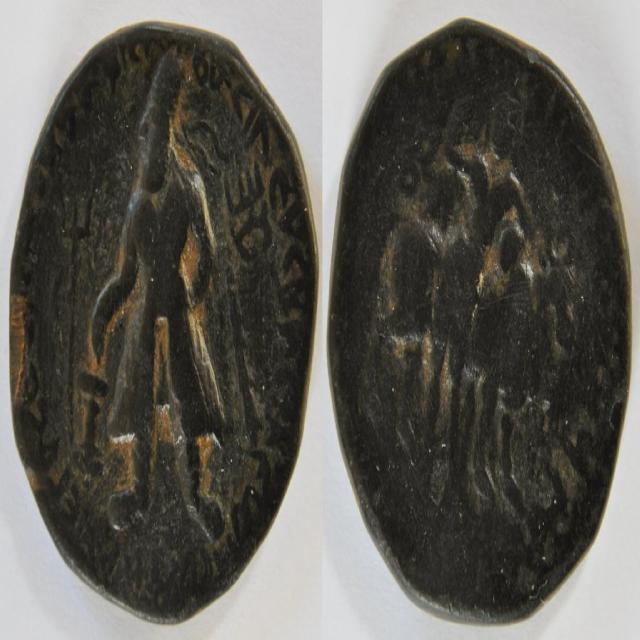Coin: (5, 18, 315, 627), (332, 13, 632, 624)
